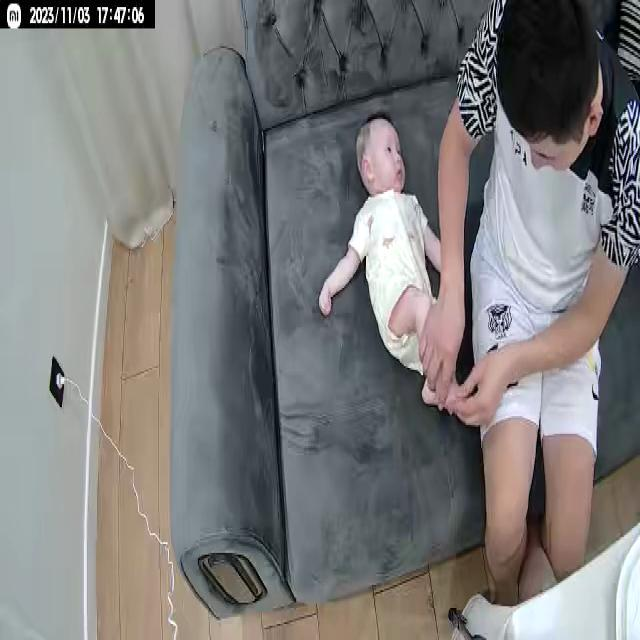baby: (318, 114, 472, 414)
